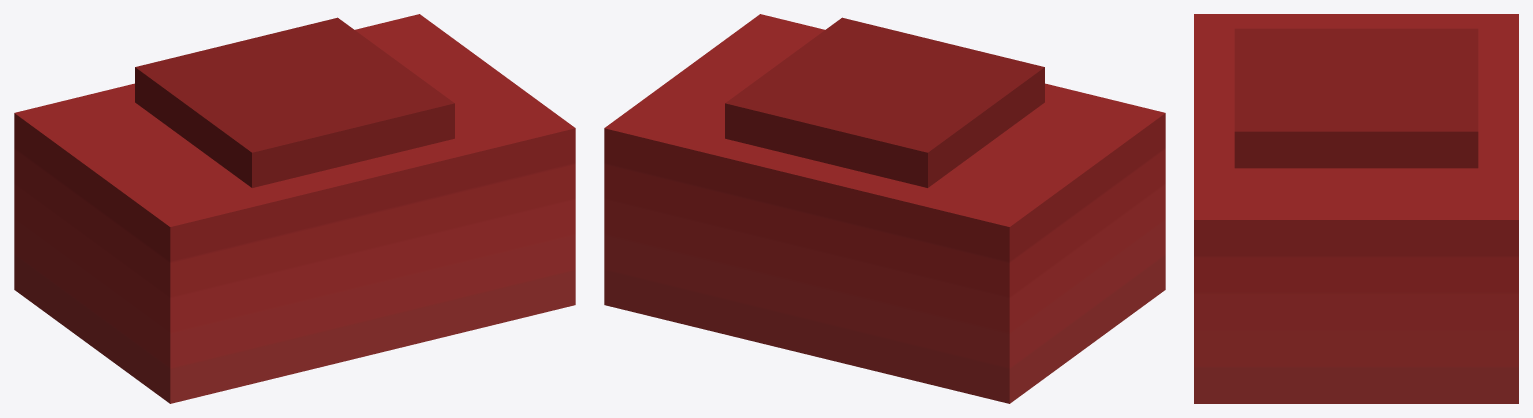
File: Chest055.fbx
The picture shows the model from 3 angles, left to right: view 1: azimuth 30°, elevation 25°; view 2: azimuth 150°, elevation 25°; view 3: azimuth 270°, elevation 25°; orthographic projection. The views are drawn at different scales.
Parts seen in each view (by area): view 1: Chest055; view 2: Chest055; view 3: Chest055.
Part boxes in pixels (bbox=[...]): Chest055: bbox=[14, 14, 575, 403]; Chest055: bbox=[604, 14, 1165, 403]; Chest055: bbox=[1194, 14, 1518, 403].
Bounding box in the file's own units: 12 × 6 × 8.
